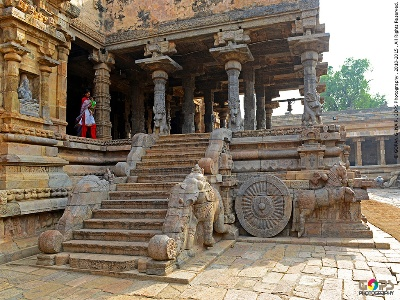mandapa: (99, 8, 344, 134)
